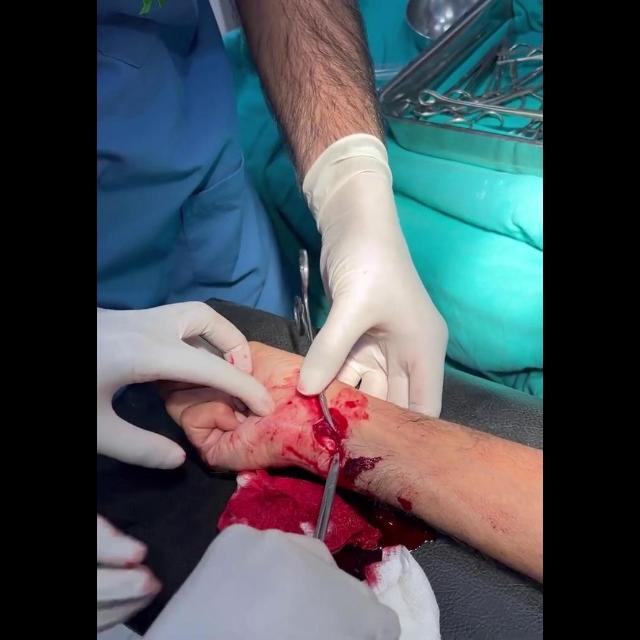blood: (286, 386, 437, 580), (219, 470, 324, 537)
